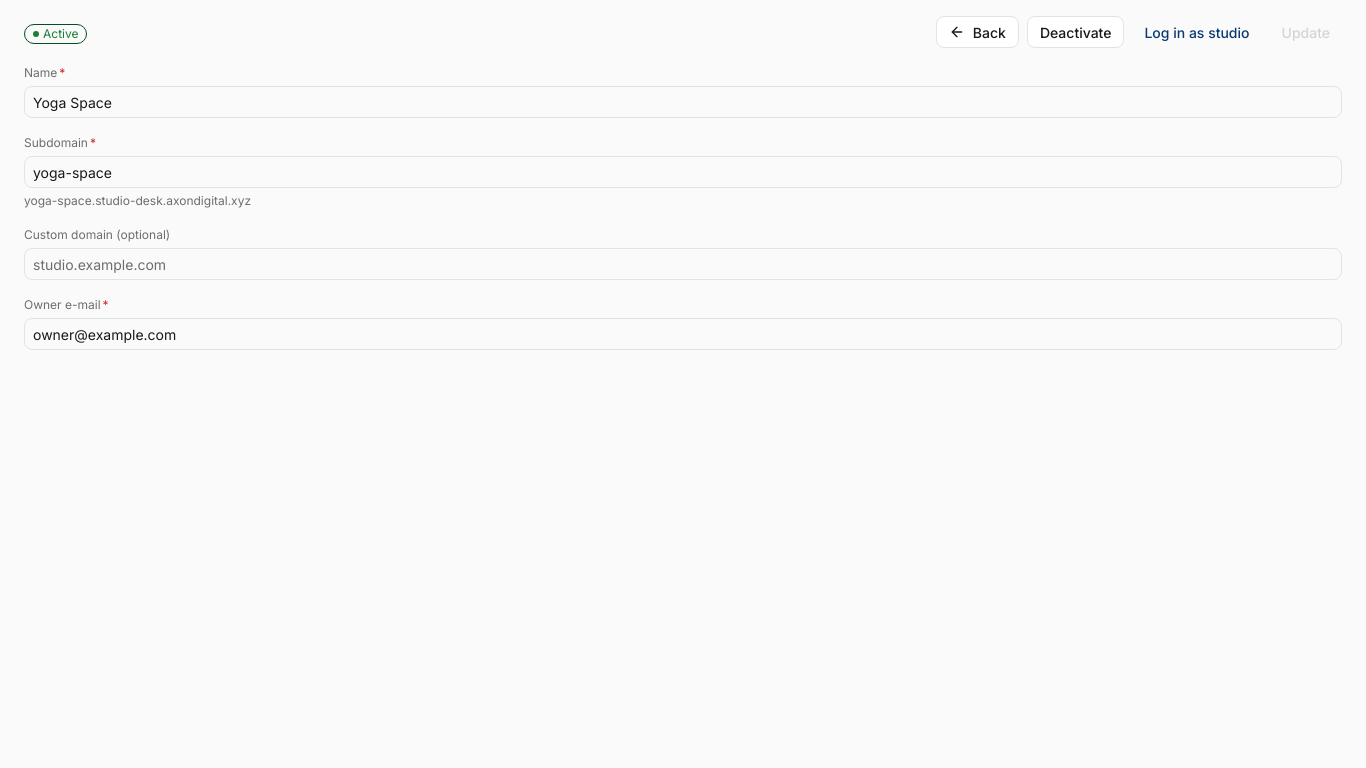
StudioPage: actions › shows Deactivate for an active studio and asks to confirm
This screenshot has width=1366, height=768.
Click the button "Deactivate" at (1076, 32), box [1027, 16, 1124, 48]
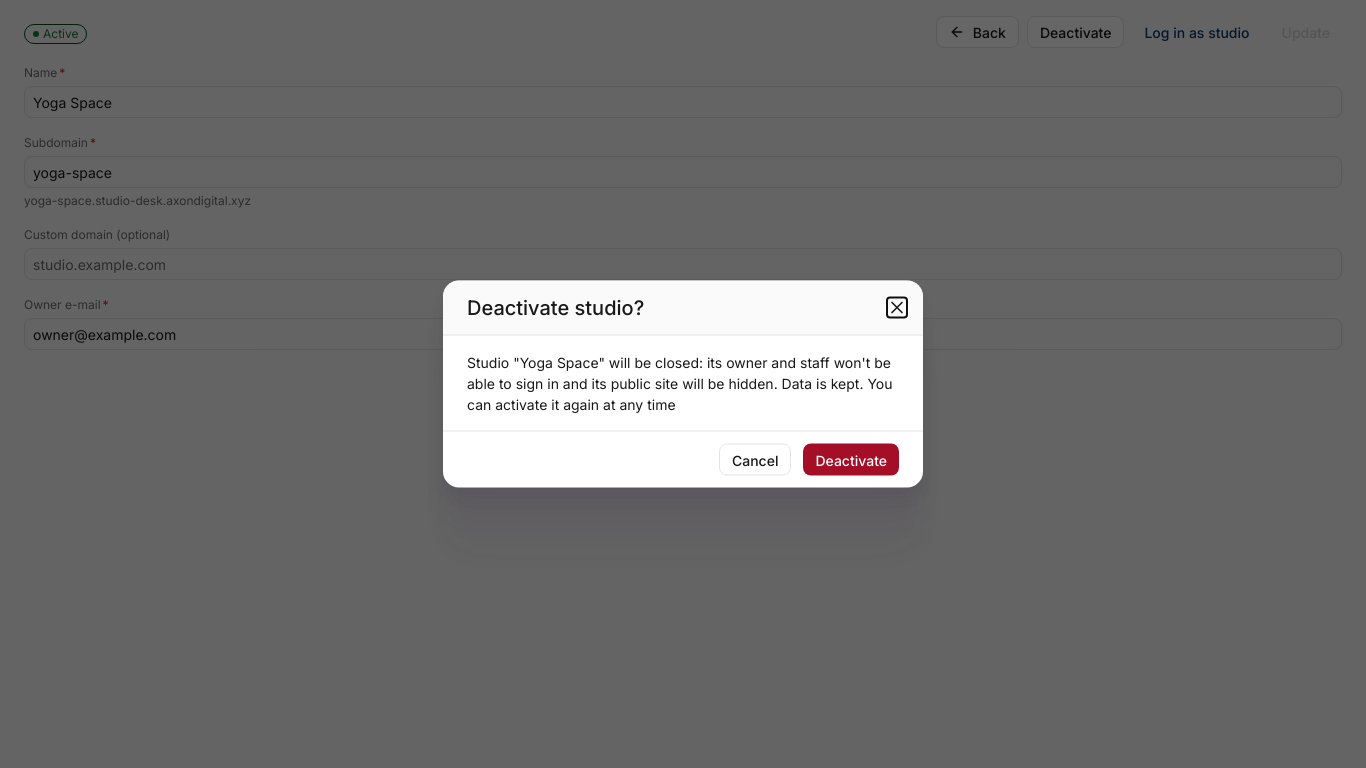
expect the heading "Deactivate studio?" is shown: met, box [467, 296, 644, 320]
expect the text "Studio \"Yoga Space\" will be closed: its owner and staff won't be able to sign in and its public site will be hidden. Da" is shown: met, box [467, 352, 899, 414]
